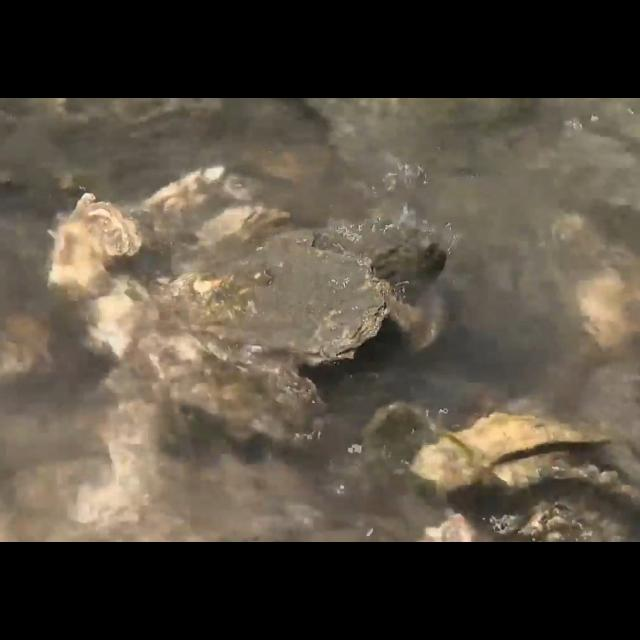Oyster-Closed: (152, 242, 394, 368), (138, 330, 328, 440), (294, 217, 448, 291), (123, 165, 259, 247), (50, 192, 140, 298), (364, 399, 436, 493)
Oyster-Open: (418, 411, 616, 489), (168, 203, 292, 277)
